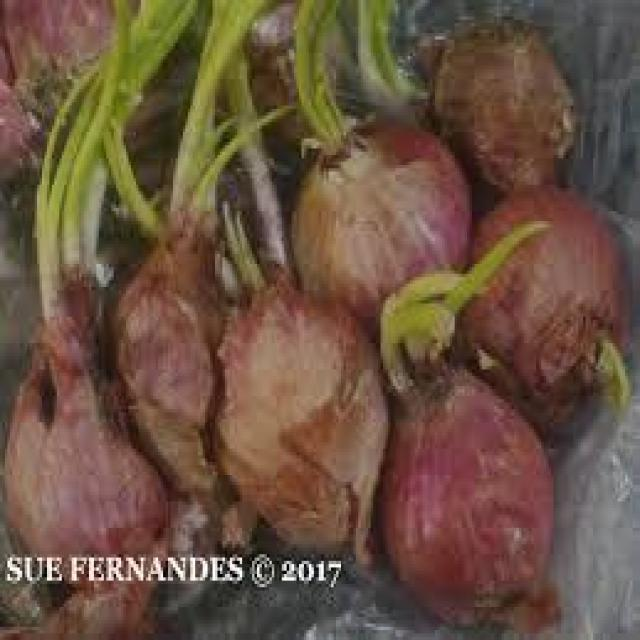Onion: (5, 274, 178, 633), (212, 261, 390, 594), (37, 0, 205, 310), (386, 355, 548, 638), (106, 0, 297, 228), (282, 119, 462, 323), (467, 191, 625, 406), (114, 218, 222, 528), (377, 220, 550, 388), (423, 17, 583, 195), (226, 51, 290, 259), (336, 0, 422, 115), (293, 0, 357, 152), (211, 203, 263, 298), (592, 333, 631, 416)
